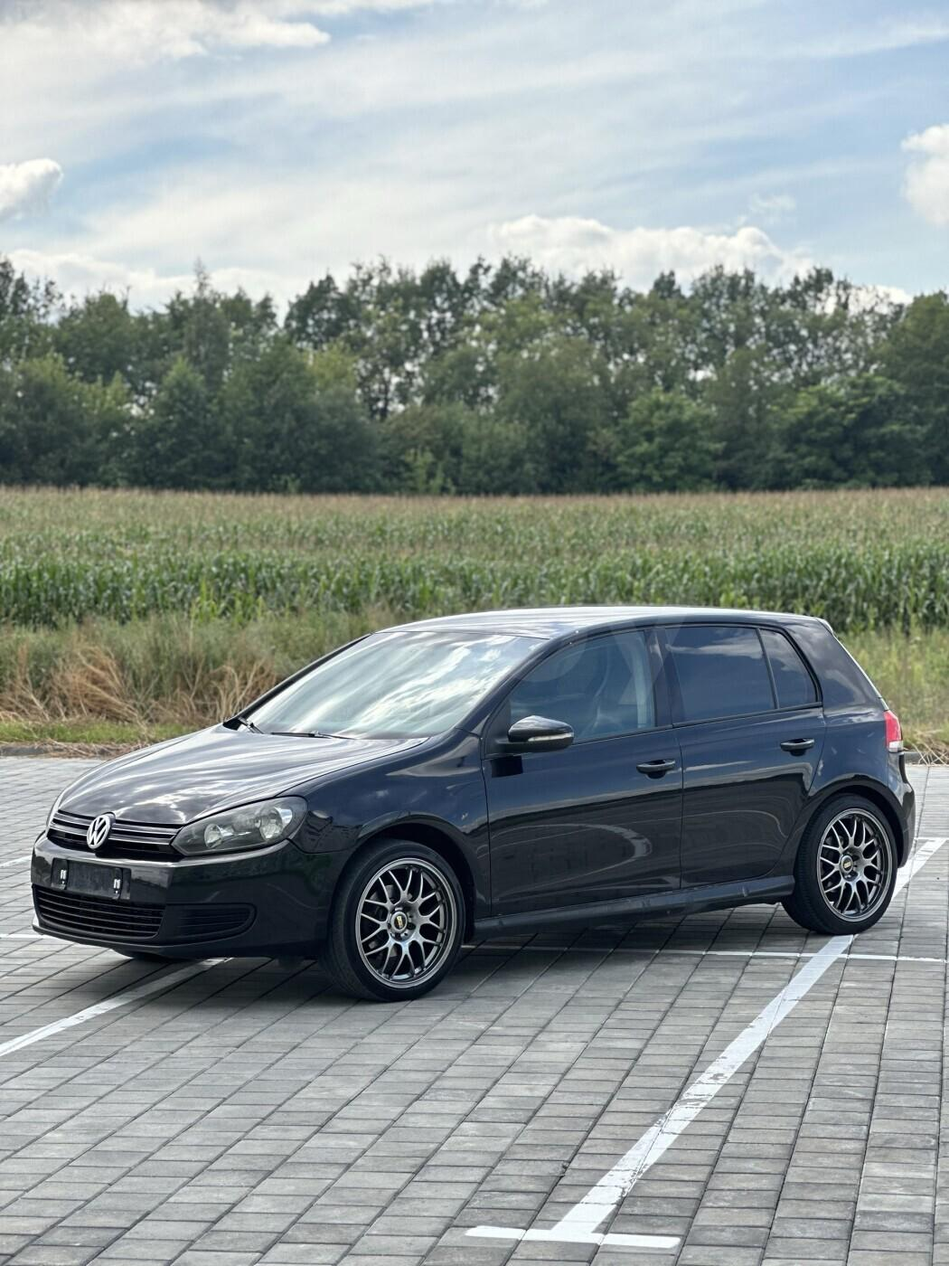Golf_2008-2013: (34, 600, 925, 1016)
